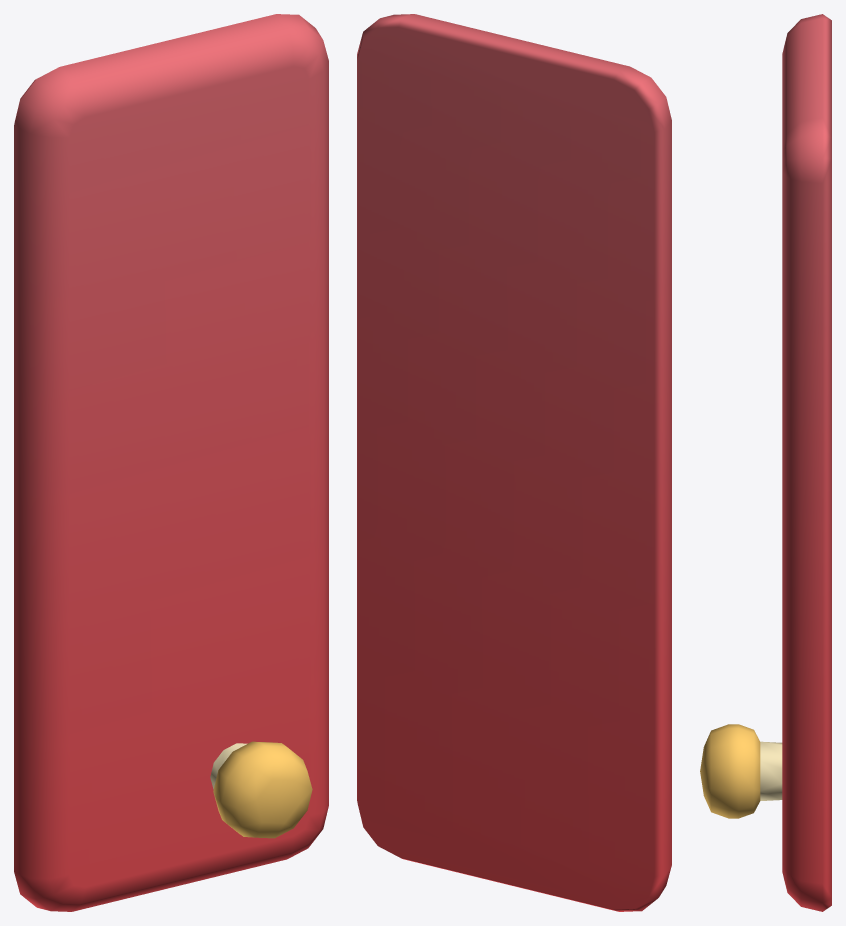
Rendered from Kitchen_Cabinet_002_door_001.fbx.
3 views of the same model, side by side, from view 1: azimuth 30°, elevation 25°; view 2: azimuth 150°, elevation 25°; view 3: azimuth 270°, elevation 25° (orthographic). The views are drawn at different scales.
Parts seen in each view (by area): view 1: Kitchen_Cabinet_002_door_001; view 2: Kitchen_Cabinet_002_door_001; view 3: Kitchen_Cabinet_002_door_001.
Boxes of the visible parts, bbox=[...] form: Kitchen_Cabinet_002_door_001: bbox=[14, 14, 328, 911]; Kitchen_Cabinet_002_door_001: bbox=[357, 14, 671, 911]; Kitchen_Cabinet_002_door_001: bbox=[700, 14, 831, 911].
Size of the model in its own units: 28.7 by 11.34 by 74.93.
